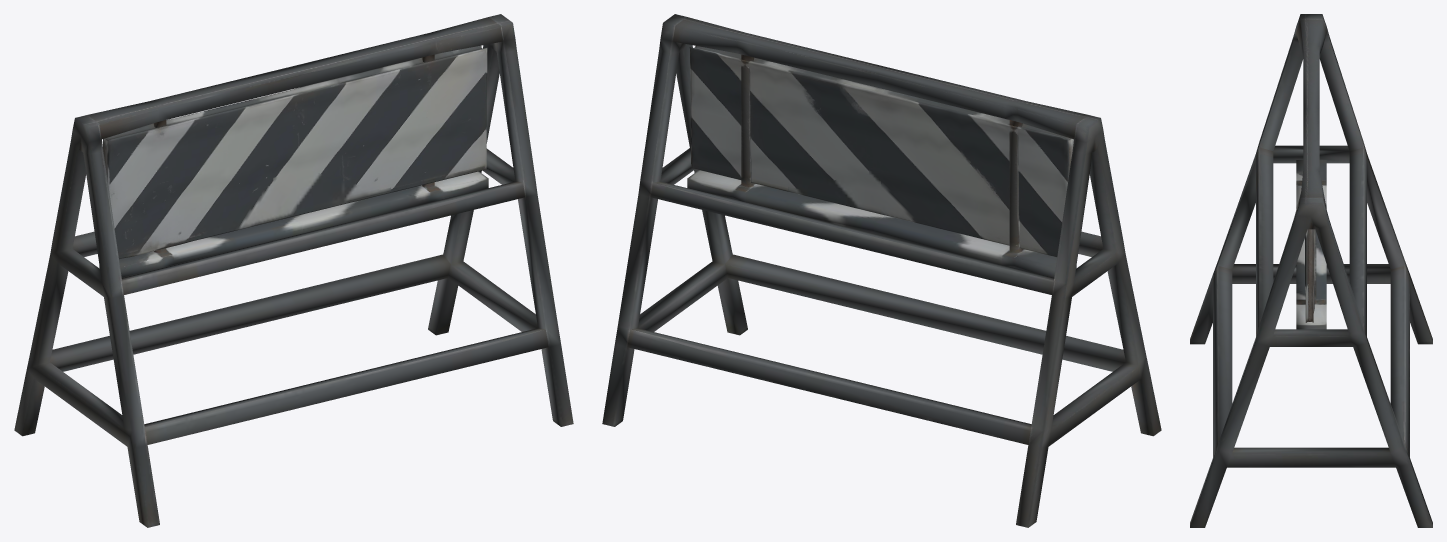
The model's file is original_glb.glb.
3 views of the same model, side by side, from view 1: azimuth 30°, elevation 25°; view 2: azimuth 150°, elevation 25°; view 3: azimuth 270°, elevation 25° (orthographic). The views are drawn at different scales.
Visible parts, largest first — view 1: traffic barrier; view 2: traffic barrier; view 3: traffic barrier.
Part boxes in pixels (x1=…): traffic barrier: x1=14, y1=14, x2=573, y2=527; traffic barrier: x1=602, y1=14, x2=1161, y2=527; traffic barrier: x1=1190, y1=14, x2=1432, y2=527.
Bounding box in the file's own units: 0.998 × 0.7988 × 0.541.
1 material, 1 textured.
